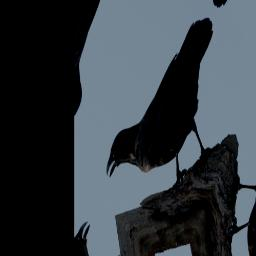Crow: (100, 0, 249, 242)
